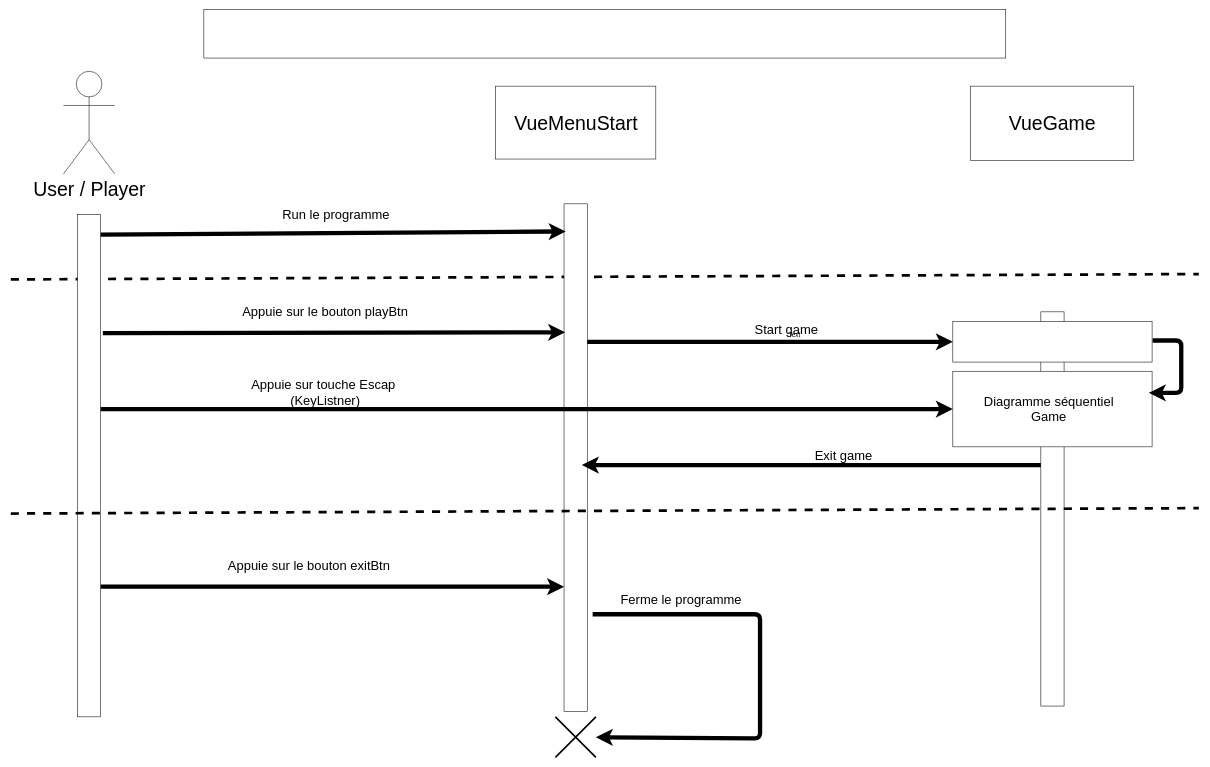
Image size: 1210x767. Some labels were removed from this diagram. Each missing label, with the centre of its shape:
"Diagramme séquentiel Creation Board" belongs at pixel 1052 341.
"Diagramme Séquentiel MenuGlobal V1.0" belongs at pixel 604 33.
